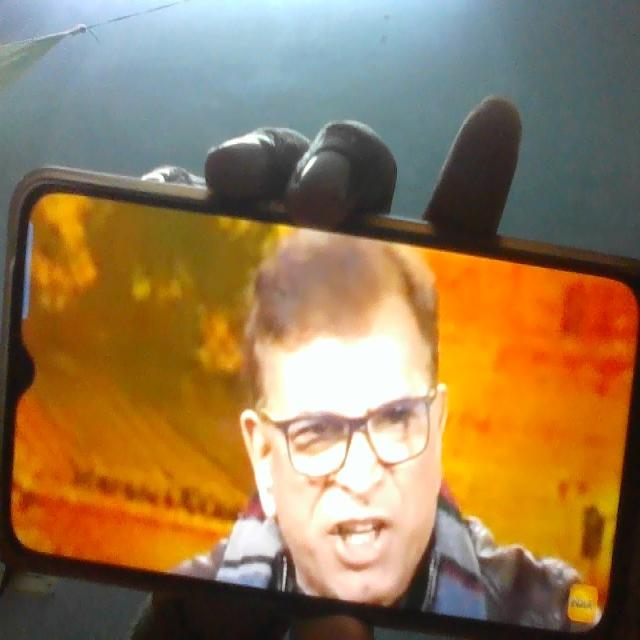fake: (242, 205, 465, 627)
